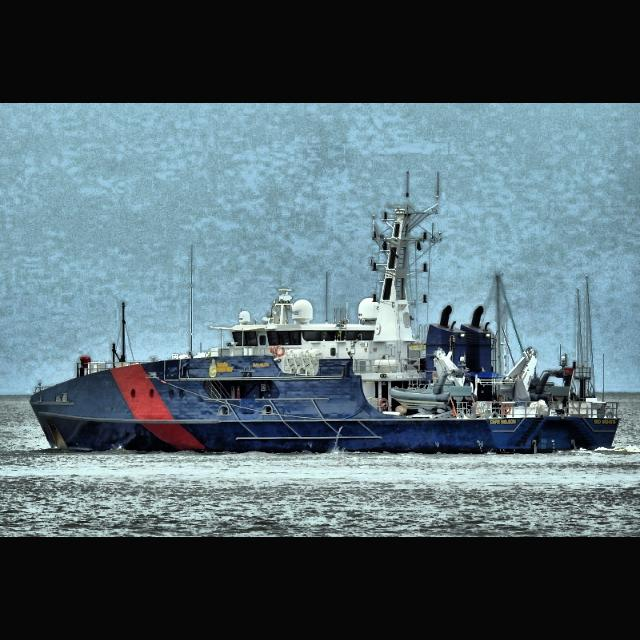patrol_vessel: (30, 206, 626, 456)
